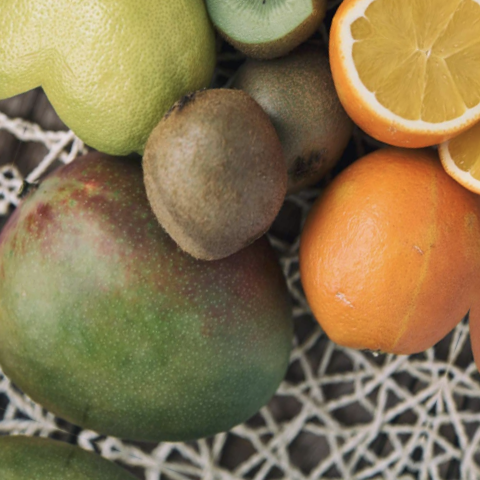kiwi: (0, 124, 368, 480), (115, 66, 314, 286)
orange: (263, 125, 480, 390)
